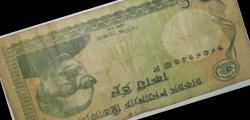2 taka: (10, 0, 241, 120)
